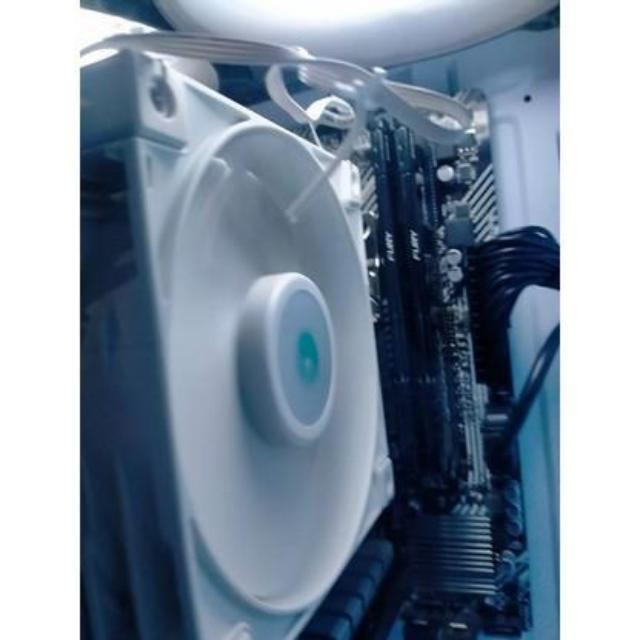CPU_Fan: (76, 43, 402, 640)
